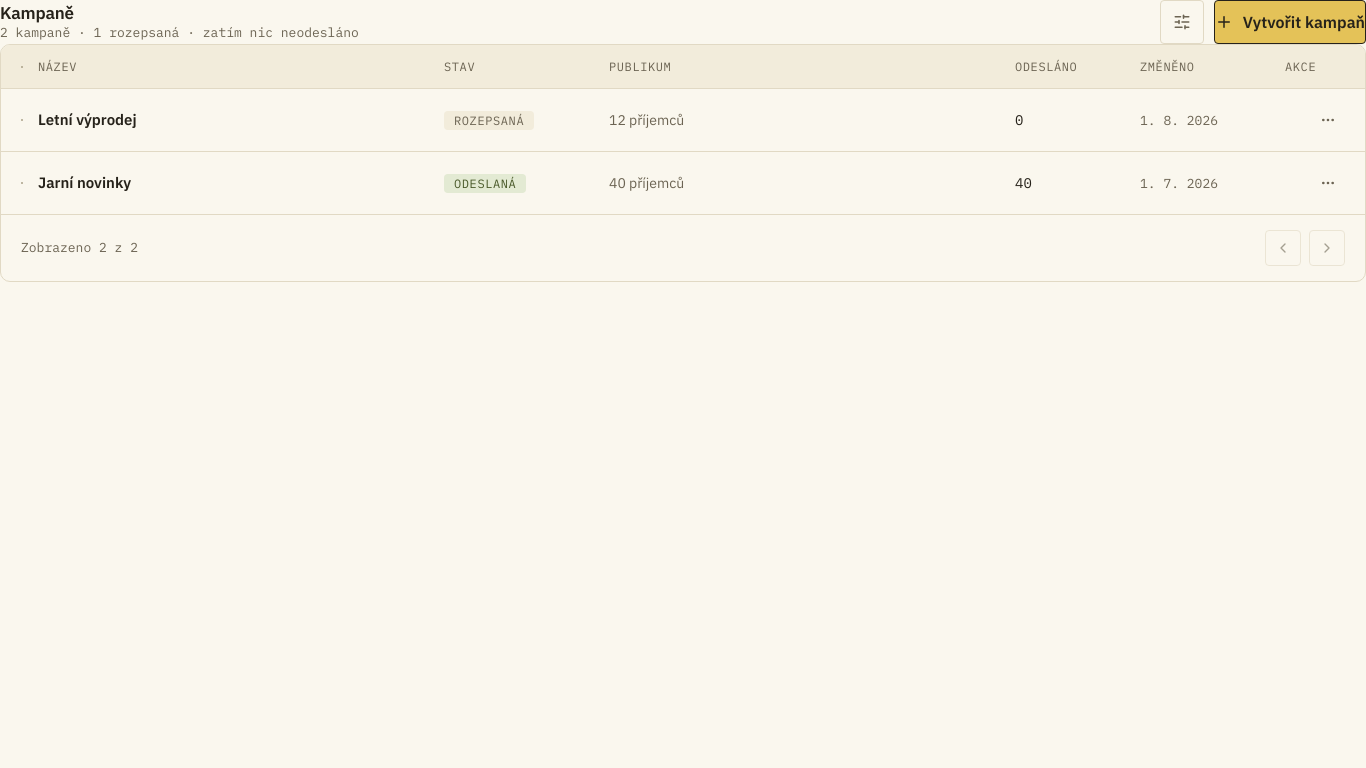
Test case: mazání kampaně ze seznamu › odmítnutí serveru pojmenuje stav, ne kód, a dialog nezavře
The width and height of the screenshot is (1366, 768).
Click the button named "Další akce s kampaní Letní výprodej": (1328, 120) [1311,103,1345,137]
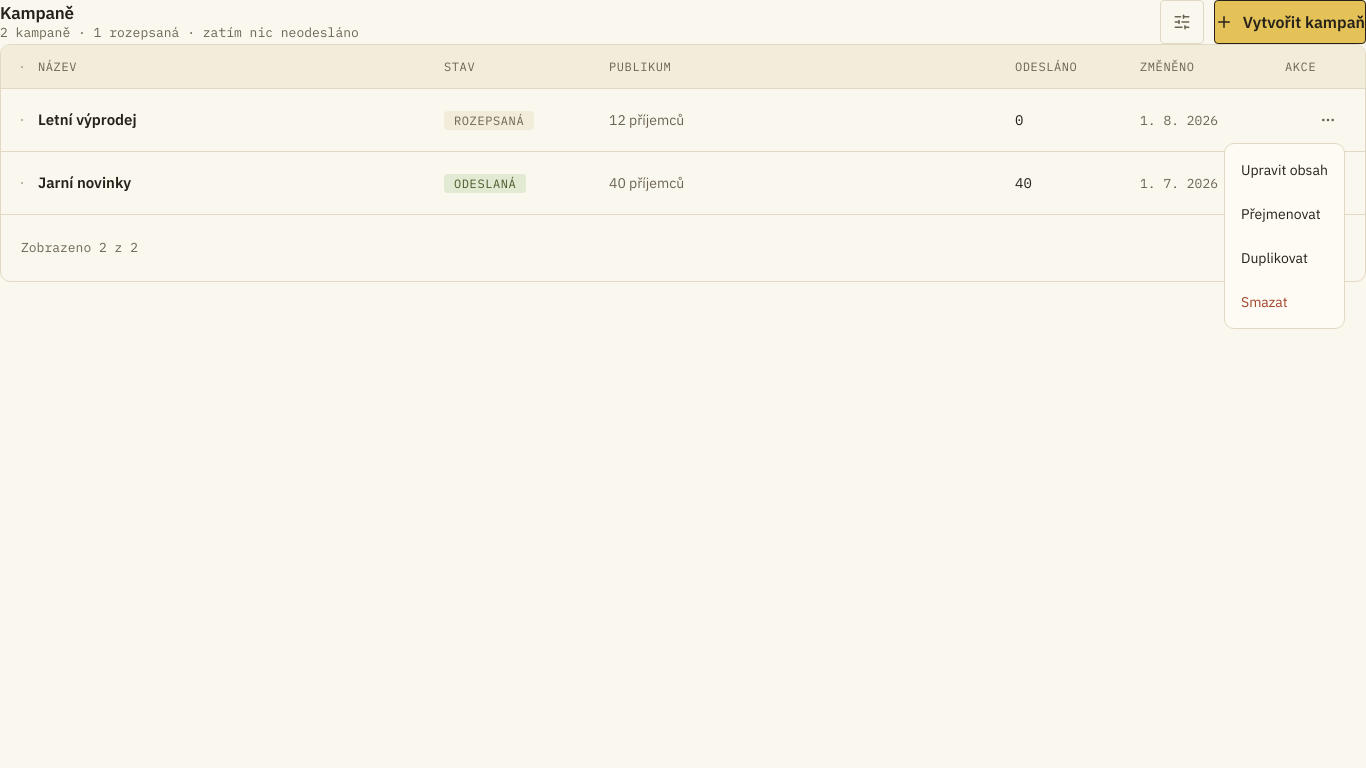
Click the menu item "Smazat": (1264, 302) [1241,293,1288,311]
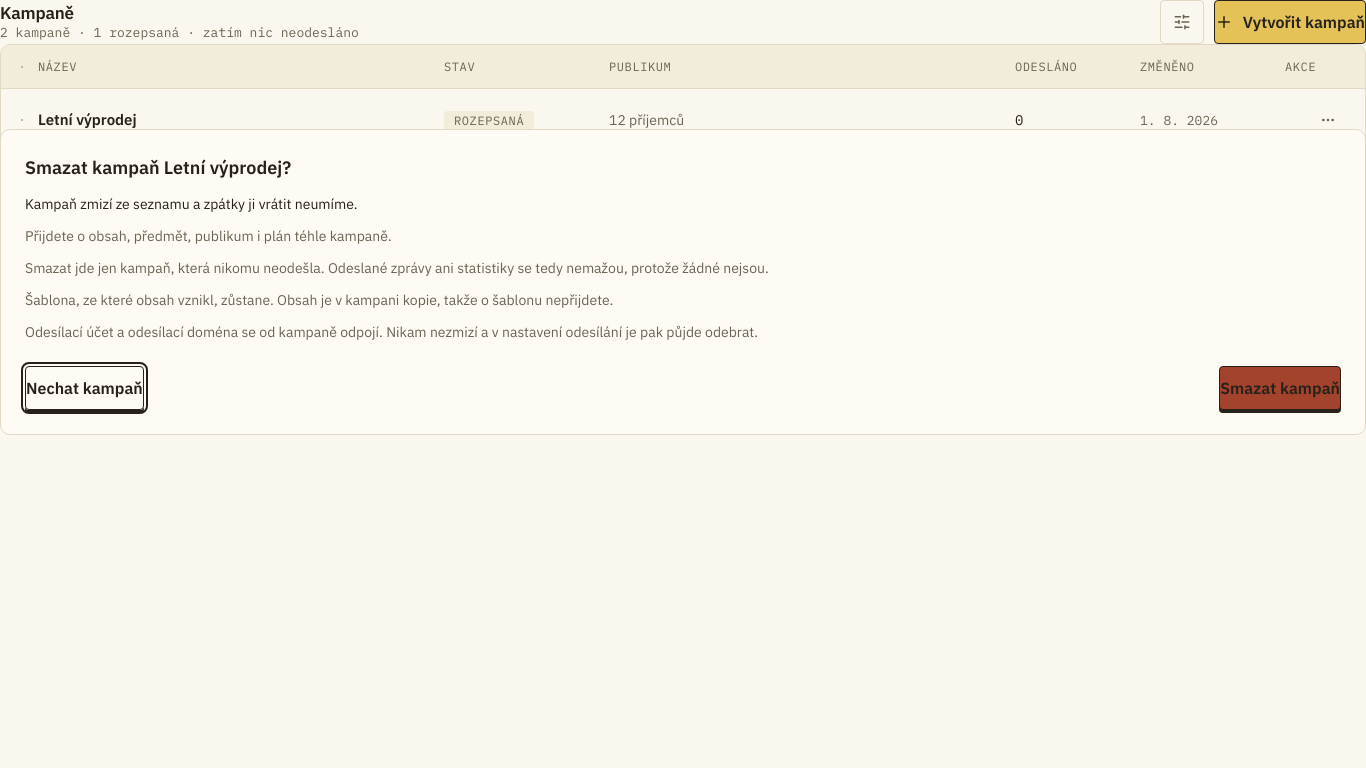
Click the button with test id "delete-campaign-submit": (1280, 388) [1219,366,1341,410]
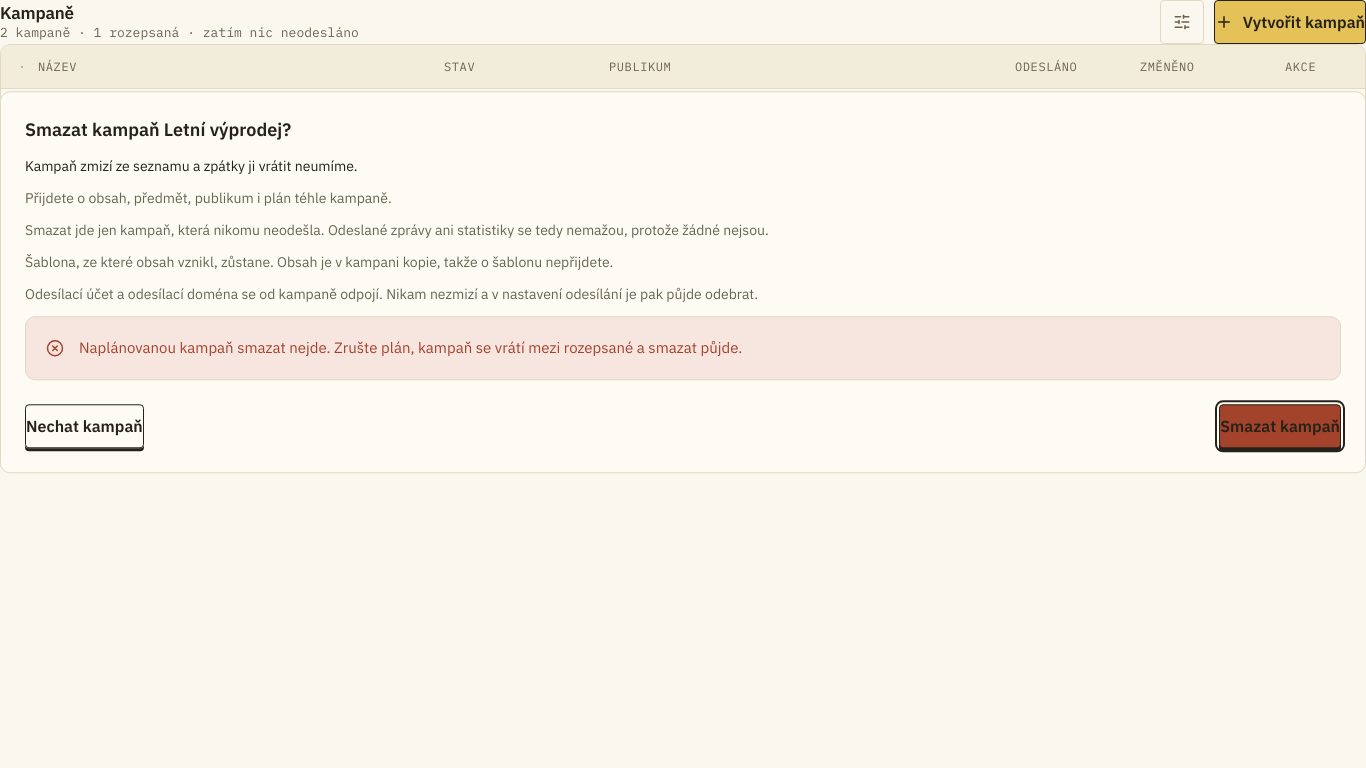
Now the message with test id "delete-campaign-error" shows "Zrušte plán", box [79,338,742,358]
